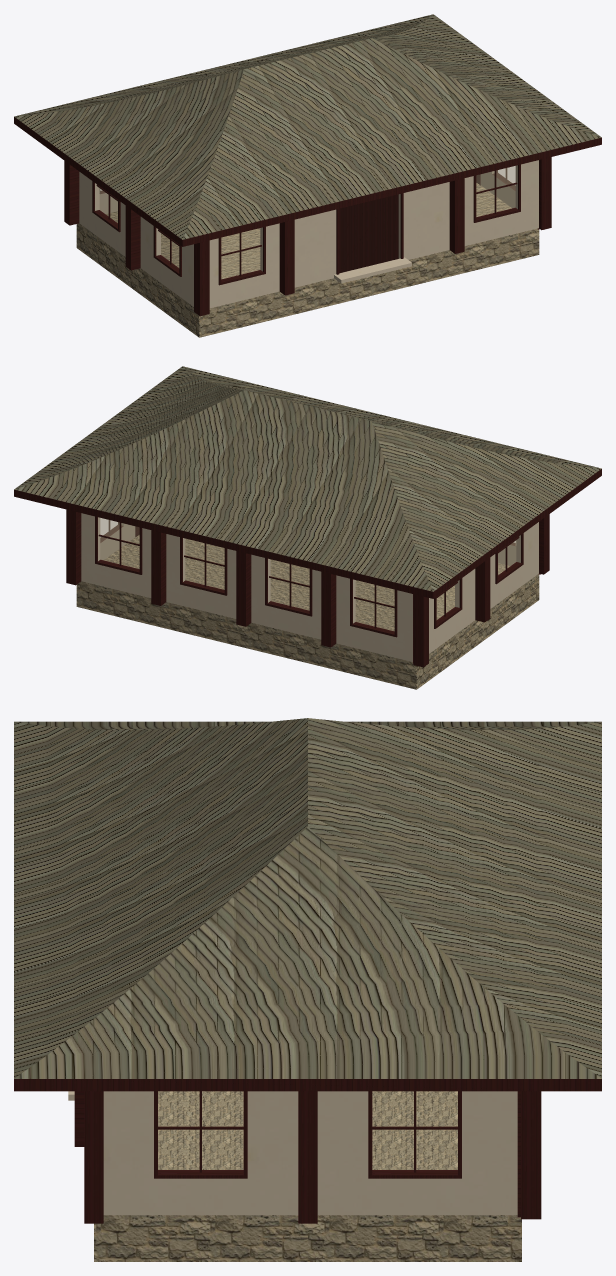
File: chinese_hall_01.glb
3 renders of one model, top to bottom at view 1: azimuth 30°, elevation 25°; view 2: azimuth 150°, elevation 25°; view 3: azimuth 270°, elevation 25°, orthographic. The views are drawn at different scales.
Parts seen in each view (by area): view 1: chinese_hall_01; view 2: chinese_hall_01; view 3: chinese_hall_01.
Part boxes in pixels (x1,y1,x2,y2): chinese_hall_01: [14, 14, 601, 337]; chinese_hall_01: [14, 366, 601, 689]; chinese_hall_01: [14, 718, 601, 1261].
Size of the model in its own units: 14.8 by 6.67 by 10.3.
Materials: 6 (5 with a texture image).
